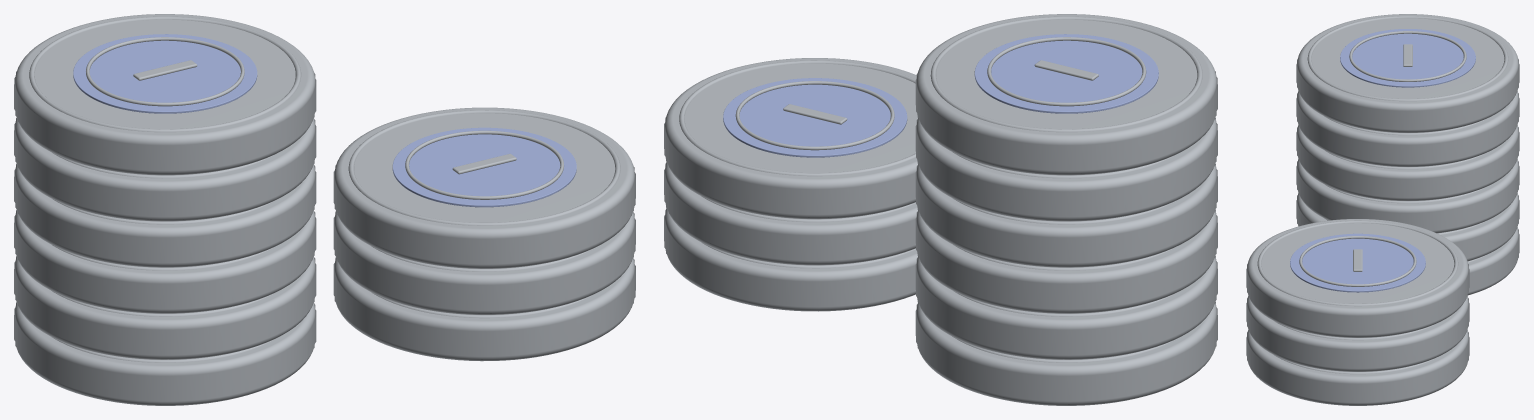
File: coin-stack.glb
The picture shows the model from 3 angles, left to right: view 1: azimuth 30°, elevation 25°; view 2: azimuth 150°, elevation 25°; view 3: azimuth 270°, elevation 25°; orthographic projection. The views are drawn at different scales.
Visible parts, largest first — view 1: short-stack-coin-3-044, tall-stack-coin-6-026, short-stack-coin-3-049, tall-stack-coin-6-031, short-stack-coin-1-034, short-stack-coin-2-039, tall-stack-coin-3-011, tall-stack-coin-4-016, tall-stack-coin-5-021, tall-stack-coin-2-006, tall-stack-coin-1-001, tall-stack-coin-1-002 (+19 smaller); view 2: tall-stack-coin-6-026, short-stack-coin-3-044, tall-stack-coin-6-031, short-stack-coin-3-049, tall-stack-coin-4-016, tall-stack-coin-3-011, tall-stack-coin-5-021, tall-stack-coin-2-006, tall-stack-coin-1-001, short-stack-coin-1-034, short-stack-coin-2-039, tall-stack-coin-1-002 (+21 smaller); view 3: tall-stack-coin-6-026, short-stack-coin-3-044, short-stack-coin-3-049, tall-stack-coin-6-031, tall-stack-coin-5-021, short-stack-coin-2-039, tall-stack-coin-4-016, short-stack-coin-1-034, tall-stack-coin-3-011, tall-stack-coin-4-017, tall-stack-coin-5-022, tall-stack-coin-6-027 (+17 smaller).
Part boxes in pixels (x1,y1,x2,y2): short-stack-coin-3-044: [334, 107, 634, 268]; tall-stack-coin-6-026: [15, 14, 315, 175]; short-stack-coin-3-049: [392, 127, 576, 207]; tall-stack-coin-6-031: [73, 34, 257, 113]; short-stack-coin-1-034: [334, 258, 634, 361]; short-stack-coin-2-039: [334, 211, 634, 314]; tall-stack-coin-3-011: [15, 210, 315, 313]; tall-stack-coin-4-016: [15, 164, 315, 267]; tall-stack-coin-5-021: [15, 118, 315, 221]; tall-stack-coin-2-006: [15, 257, 315, 359]; tall-stack-coin-1-001: [15, 303, 315, 405]; tall-stack-coin-1-002: [14, 302, 316, 401]; tall-stack-coin-6-026: [916, 14, 1216, 175]; short-stack-coin-3-044: [665, 58, 917, 219]; tall-stack-coin-6-031: [974, 34, 1158, 113]; short-stack-coin-3-049: [723, 78, 907, 157]; tall-stack-coin-4-016: [916, 164, 1216, 267]; tall-stack-coin-3-011: [916, 210, 1216, 313]; tall-stack-coin-5-021: [916, 118, 1216, 221]; tall-stack-coin-2-006: [916, 256, 1216, 359]; tall-stack-coin-1-001: [916, 303, 1216, 405]; short-stack-coin-1-034: [665, 208, 917, 311]; short-stack-coin-2-039: [665, 162, 917, 265]; tall-stack-coin-1-002: [915, 302, 1217, 401]; tall-stack-coin-6-026: [1297, 14, 1518, 132]; short-stack-coin-3-044: [1247, 219, 1468, 337]; short-stack-coin-3-049: [1290, 233, 1425, 292]; tall-stack-coin-6-031: [1340, 29, 1475, 87]; tall-stack-coin-5-021: [1297, 91, 1518, 166]; short-stack-coin-2-039: [1247, 296, 1468, 371]; tall-stack-coin-4-016: [1297, 125, 1518, 200]; short-stack-coin-1-034: [1247, 330, 1468, 405]; tall-stack-coin-3-011: [1297, 159, 1518, 233]; tall-stack-coin-4-017: [1296, 127, 1519, 197]; tall-stack-coin-5-022: [1296, 93, 1519, 163]; tall-stack-coin-6-027: [1296, 59, 1519, 129].
Bounding box in the file's own units: 2 × 0.9701 × 1.17.
